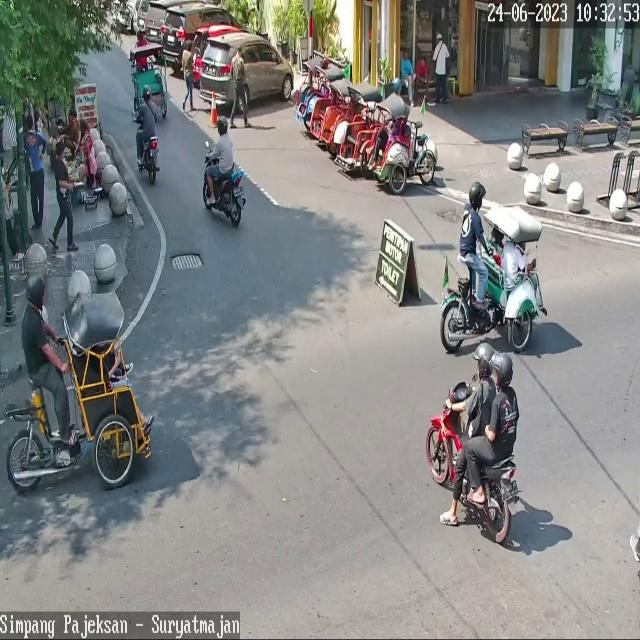bus: (426, 380, 519, 542), (203, 149, 246, 226), (143, 136, 161, 185)
motorcycle: (199, 34, 295, 112), (161, 4, 239, 63), (194, 24, 243, 80), (144, 0, 168, 52)
